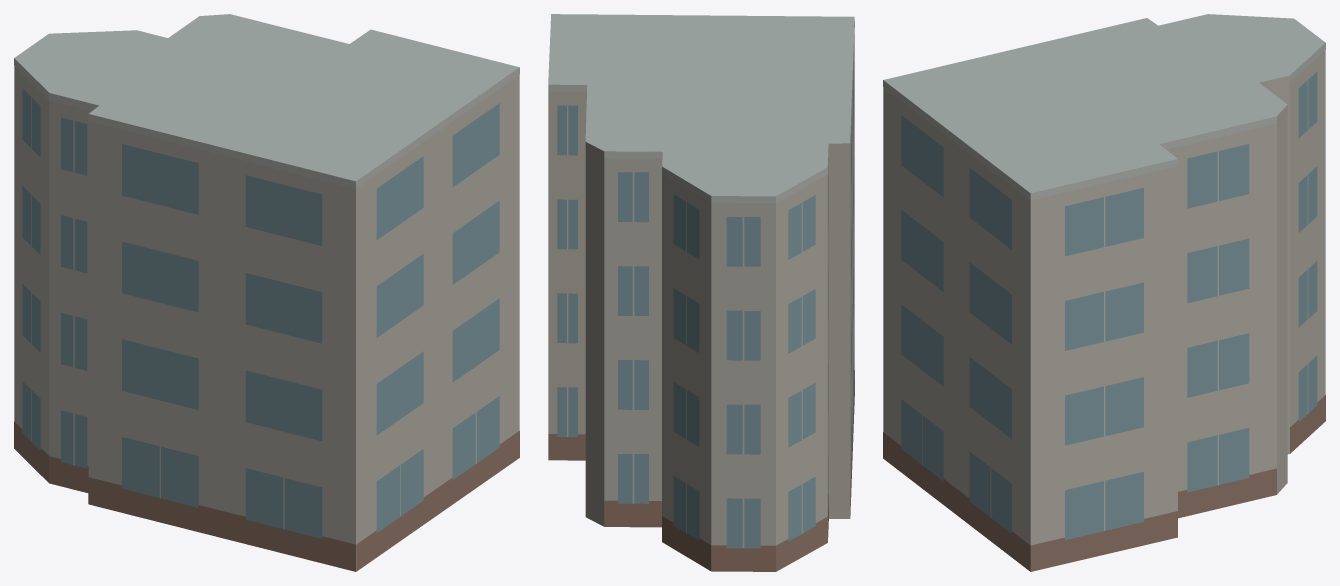
File: survey-upis-32487848.glb
3 renders of one model, left to right at view 1: azimuth 30°, elevation 25°; view 2: azimuth 150°, elevation 25°; view 3: azimuth 270°, elevation 25°, orthographic. The views are drawn at different scales.
Parts seen in each view (by area): view 1: survey-upis-32487848.tmp; view 2: survey-upis-32487848.tmp; view 3: survey-upis-32487848.tmp.
Boxes of the visible parts, x1,y1,x2,y2 form: survey-upis-32487848.tmp: (14, 14, 519, 571); survey-upis-32487848.tmp: (548, 14, 854, 571); survey-upis-32487848.tmp: (883, 14, 1325, 571).
Bounding box in the file's own units: 13.22 × 13 × 13.78.
